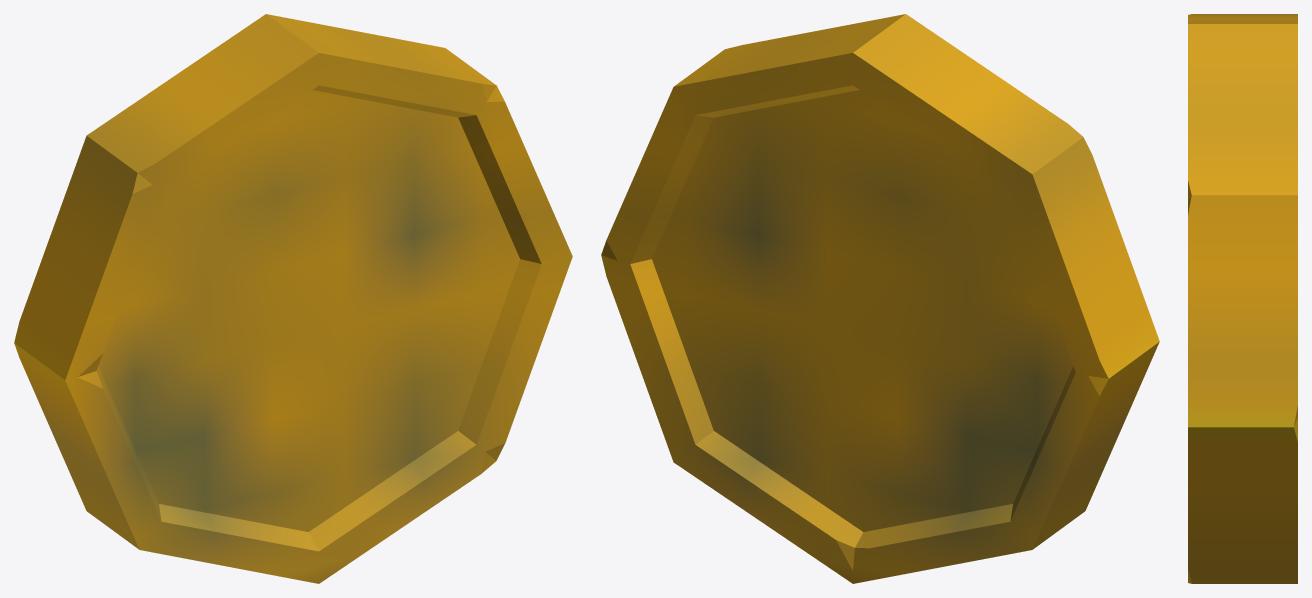
File: Coin_Up.fbx
3 views of the same model, side by side, from view 1: azimuth 30°, elevation 25°; view 2: azimuth 150°, elevation 25°; view 3: azimuth 270°, elevation 25° (orthographic). The views are drawn at different scales.
Visible parts, largest first — view 1: Coin_Up; view 2: Coin_Up; view 3: Coin_Up.
Boxes of the visible parts, box(x1,y1,x2,y2) form: Coin_Up: box(14, 14, 572, 583); Coin_Up: box(601, 14, 1159, 583); Coin_Up: box(1188, 14, 1297, 583).
Size of the model in its own units: 386 by 386 by 69.86.
